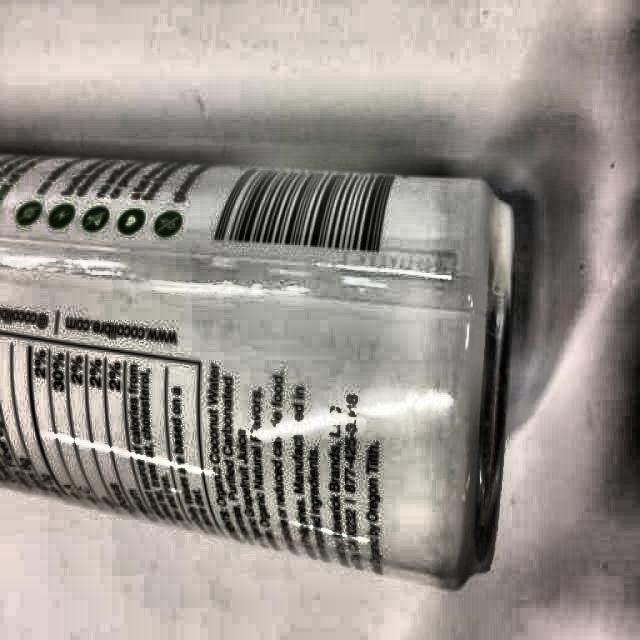Anorganik: (2, 96, 522, 590)
